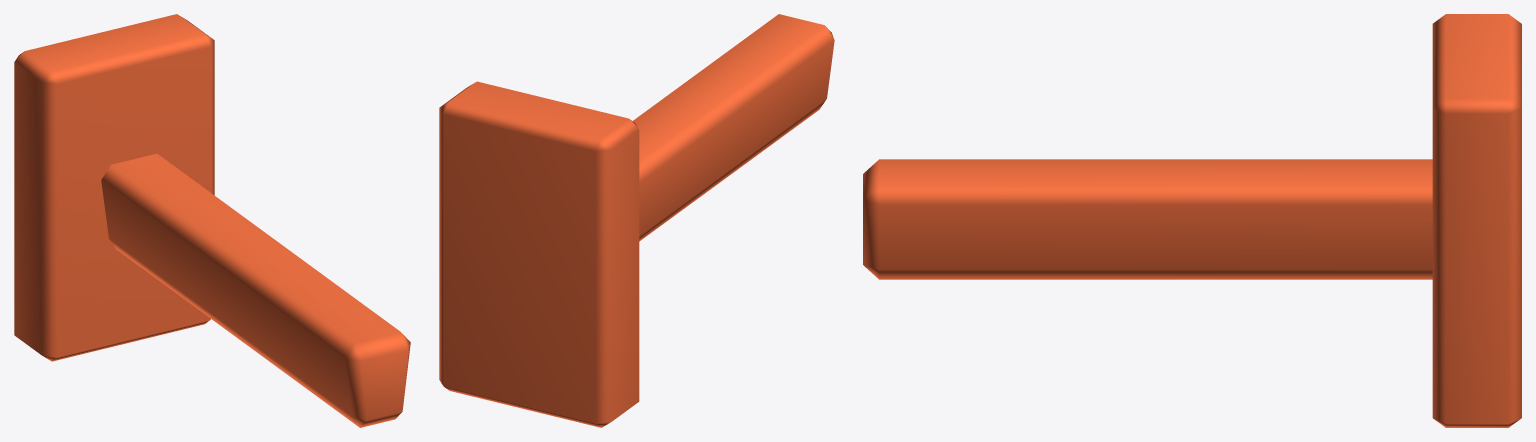
The model's file is Farm_14_Lamp_Holder_1.glb.
The picture shows the model from 3 angles, left to right: view 1: azimuth 30°, elevation 25°; view 2: azimuth 150°, elevation 25°; view 3: azimuth 270°, elevation 25°; orthographic projection. The views are drawn at different scales.
Visible parts, largest first — view 1: Farm_14_Lamp_Holder_1; view 2: Farm_14_Lamp_Holder_1; view 3: Farm_14_Lamp_Holder_1.
Boxes of the visible parts, x1,y1,x2,y2 form: Farm_14_Lamp_Holder_1: [14, 14, 410, 427]; Farm_14_Lamp_Holder_1: [439, 14, 834, 427]; Farm_14_Lamp_Holder_1: [863, 14, 1521, 427].
Size of the model in its own units: 0.3201 by 0.5133 by 0.9302.
1 material, 1 textured.
